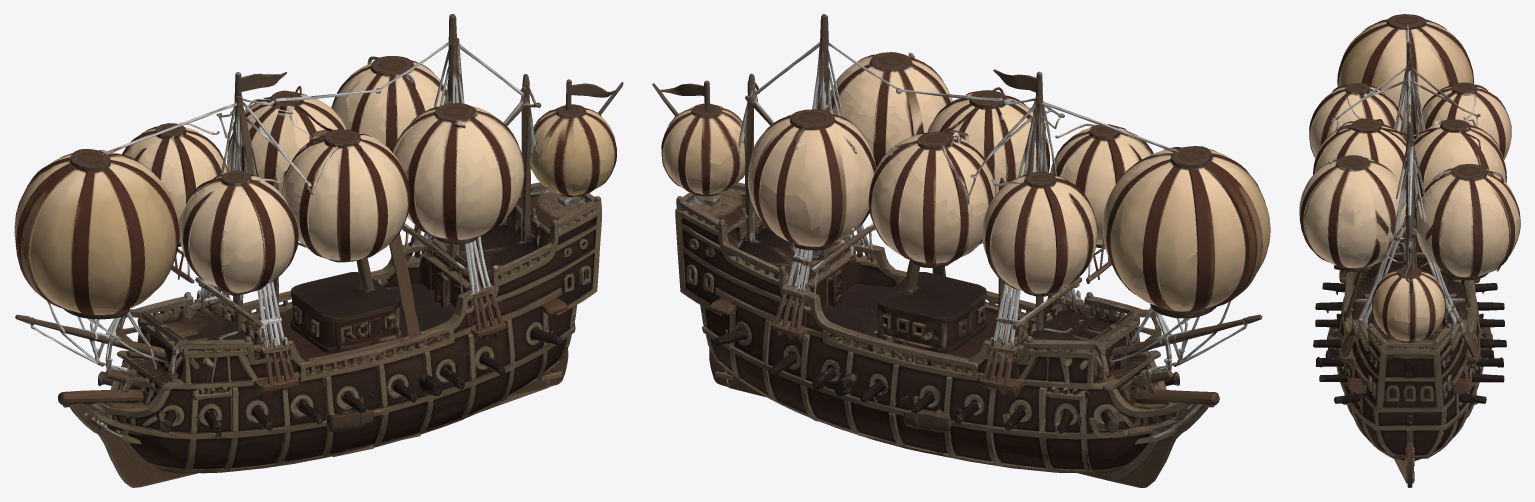
The picture shows the model from 3 angles, left to right: view 1: azimuth 30°, elevation 25°; view 2: azimuth 150°, elevation 25°; view 3: azimuth 270°, elevation 25°; orthographic projection. The views are drawn at different scales.
Visible parts, largest first — view 1: Mesh_0; view 2: Mesh_0; view 3: Mesh_0.
Part boxes in pixels (left/top/right/bottom): Mesh_0: left=14, top=14, right=623, bottom=487; Mesh_0: left=652, top=14, right=1270, bottom=487; Mesh_0: left=1299, top=14, right=1520, bottom=487.
Size of the model in its own units: 1.9 by 1.18 by 0.7311.
1 material, 1 textured.
